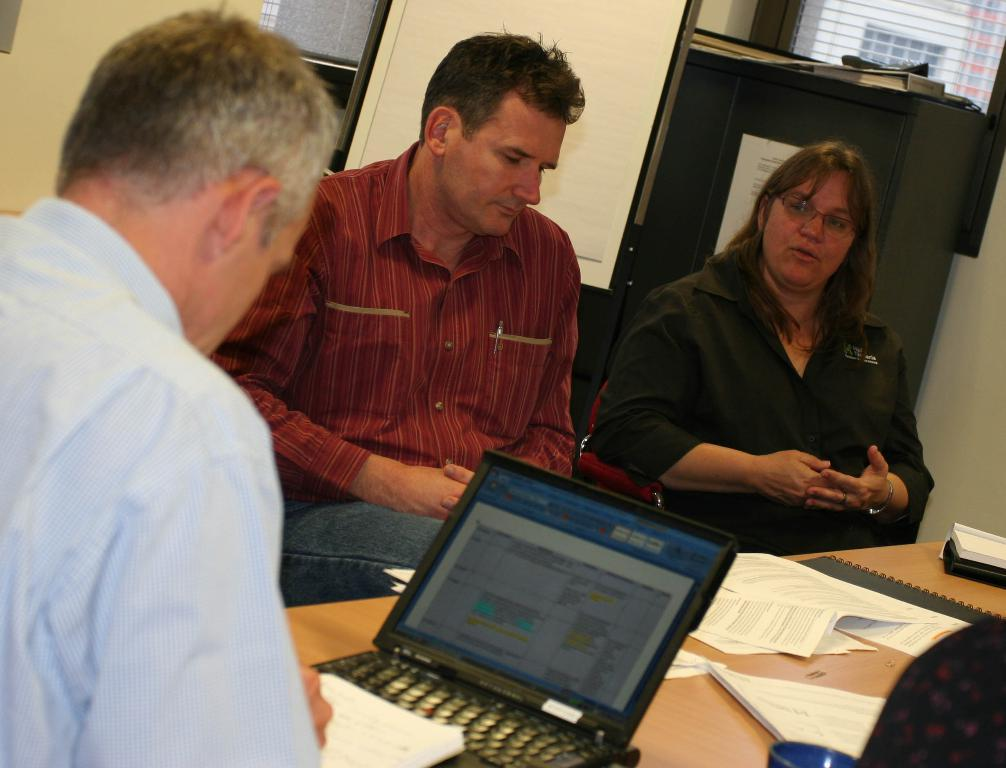Laptop: (296, 456, 740, 766)
